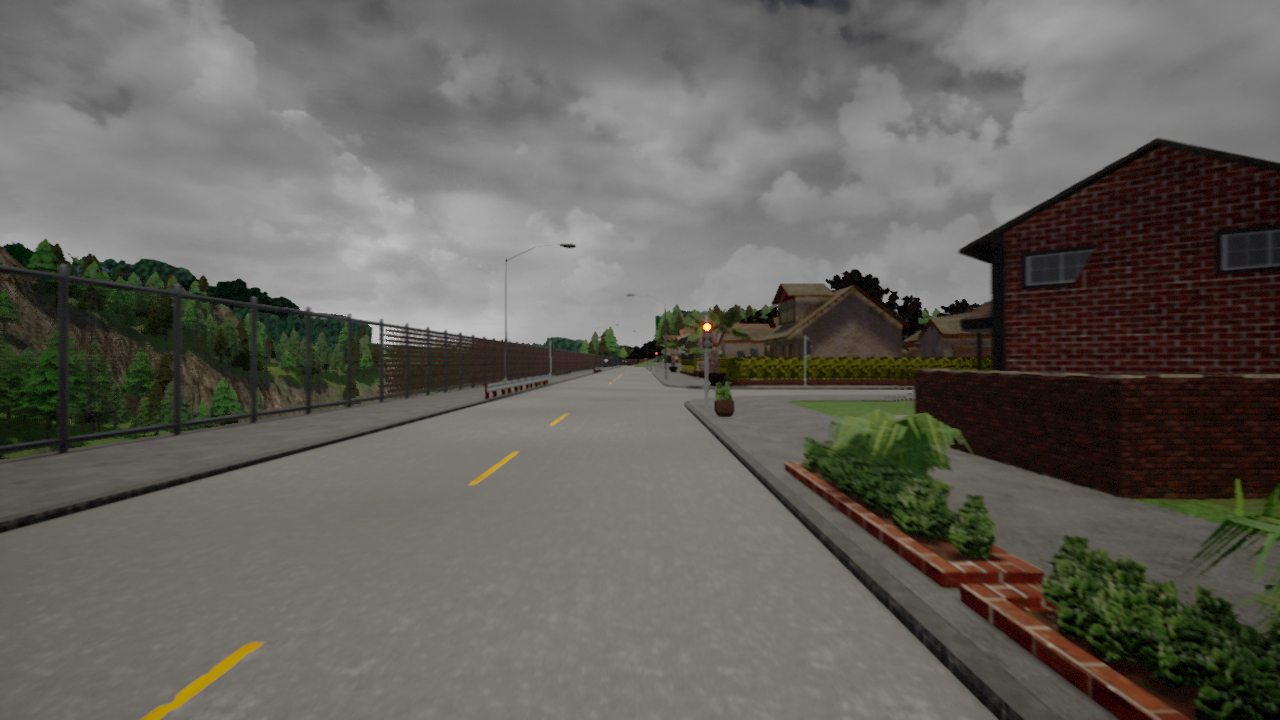red: (702, 320, 713, 350)
